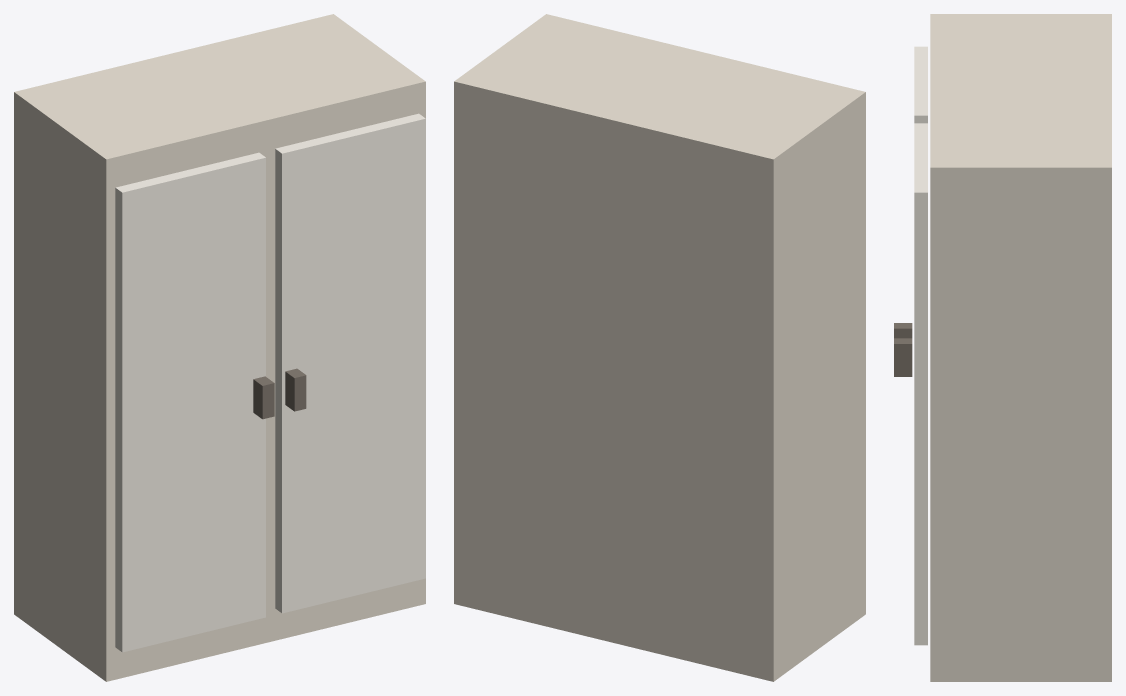
The model's file is storage.glb.
3 renders of one model, left to right at view 1: azimuth 30°, elevation 25°; view 2: azimuth 150°, elevation 25°; view 3: azimuth 270°, elevation 25°, orthographic.
Visible parts, largest first — view 1: Roomark Demo Storage; view 2: Roomark Demo Storage; view 3: Roomark Demo Storage.
Part boxes in pixels (x1=…): Roomark Demo Storage: x1=14, y1=14, x2=425, y2=681; Roomark Demo Storage: x1=454, y1=14, x2=865, y2=681; Roomark Demo Storage: x1=894, y1=14, x2=1111, y2=681.
Bounding box in the file's own units: 0.8 × 1.25 × 0.48.
